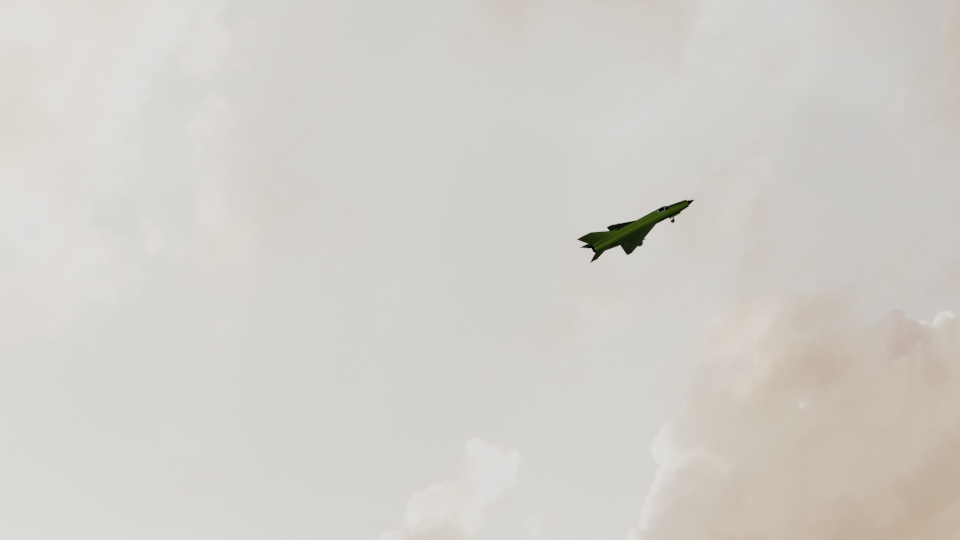plane: (576, 194, 694, 261)
